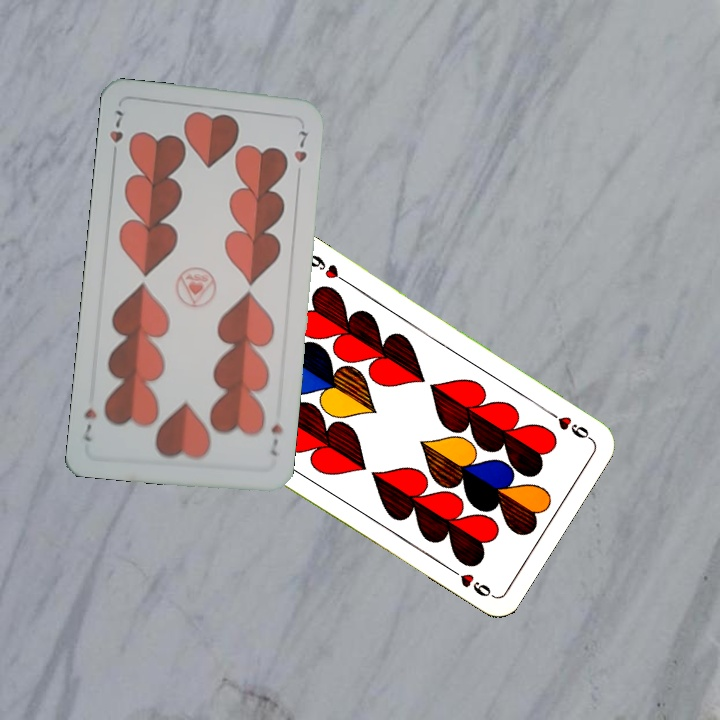H7: (106, 106, 126, 145), (266, 420, 285, 458)
H9: (540, 405, 593, 442)
